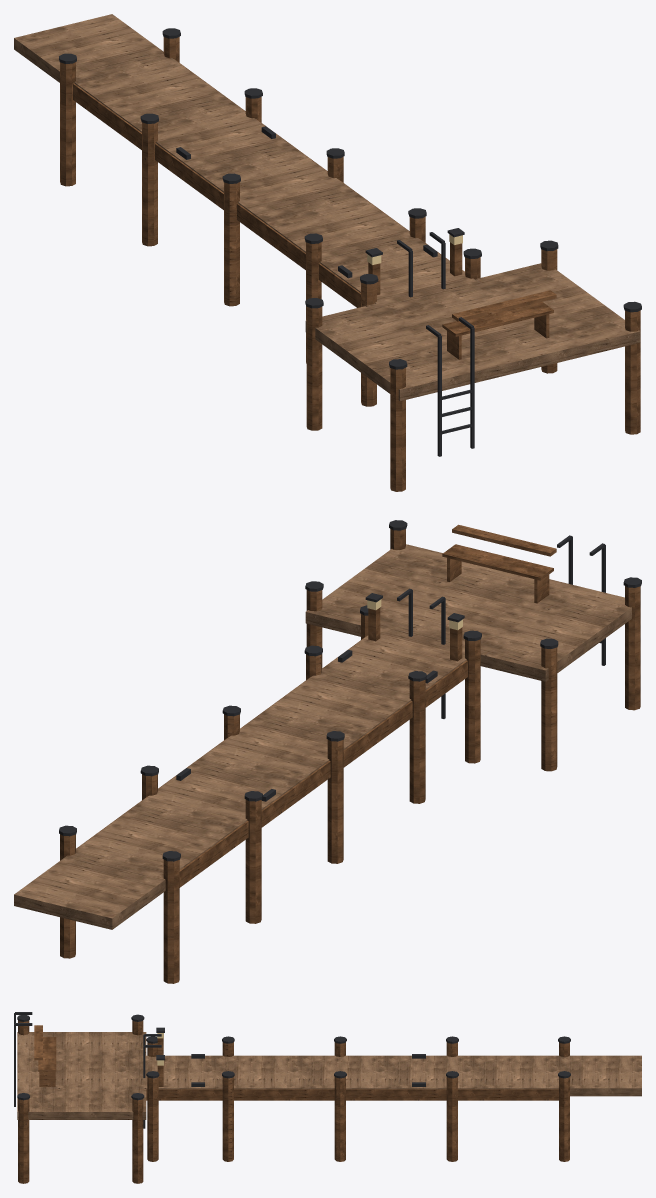
File: se_dock_launch.fbx
The picture shows the model from 3 angles, top to bottom: view 1: azimuth 30°, elevation 25°; view 2: azimuth 150°, elevation 25°; view 3: azimuth 270°, elevation 25°; orthographic projection. The views are drawn at different scales.
Parts seen in each view (by area): view 1: se_dock_launch_LOD0; view 2: se_dock_launch_LOD0; view 3: se_dock_launch_LOD0.
Part boxes in pixels (left/top/right/bottom): se_dock_launch_LOD0: left=14, top=14, right=641, bottom=491; se_dock_launch_LOD0: left=14, top=520, right=641, bottom=983; se_dock_launch_LOD0: left=14, top=1012, right=641, bottom=1183.
Size of what is drawn, in the model's own units: 4.6 by 2.62 by 14.57.
1 material, 1 textured.
